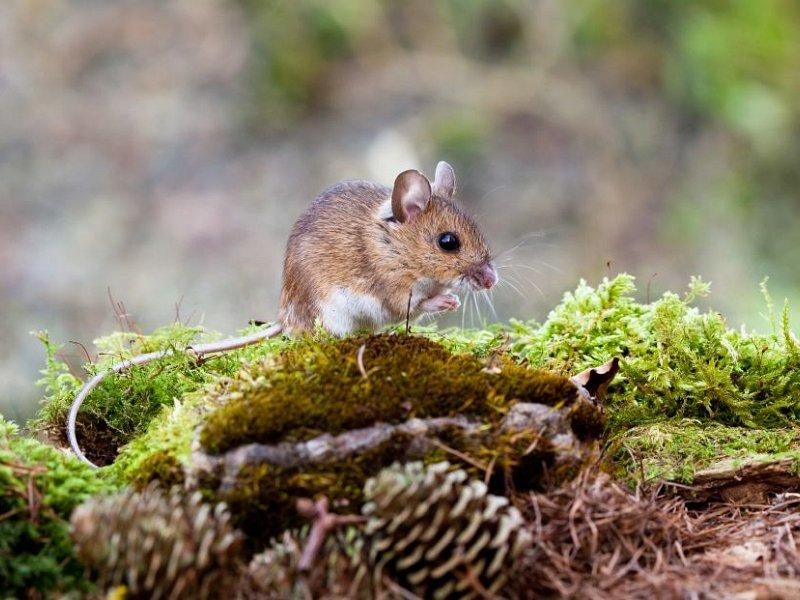rat: (72, 162, 497, 469)
